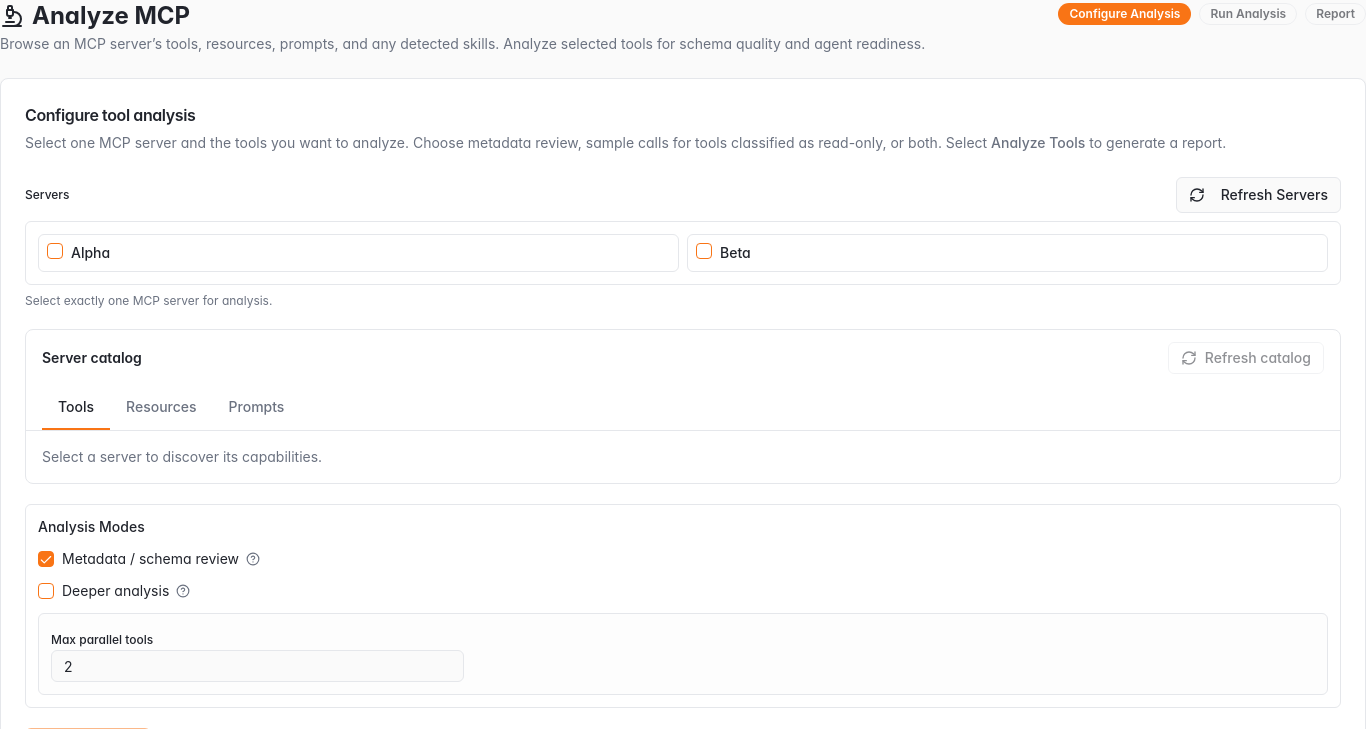
Test: Analyze MCP catalog › sends prompt arguments and shows the rendered roles and messages
Click the checkbox named "Alpha" next to "Alpha" at [55, 251], box [47, 243, 63, 259]
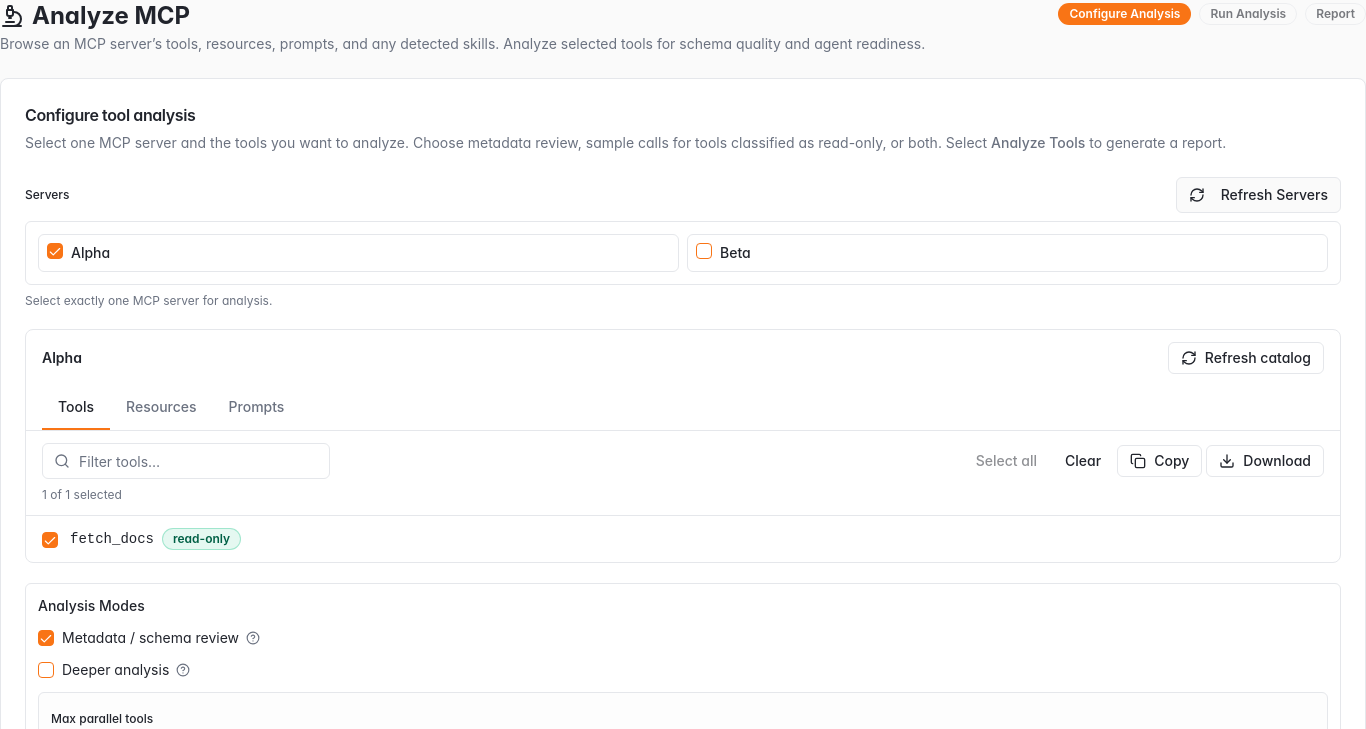
expect the text "fetch_docs" is shown: met, box [70, 529, 154, 549]
Press Enter in the tab "Prompts", box [212, 386, 300, 430]
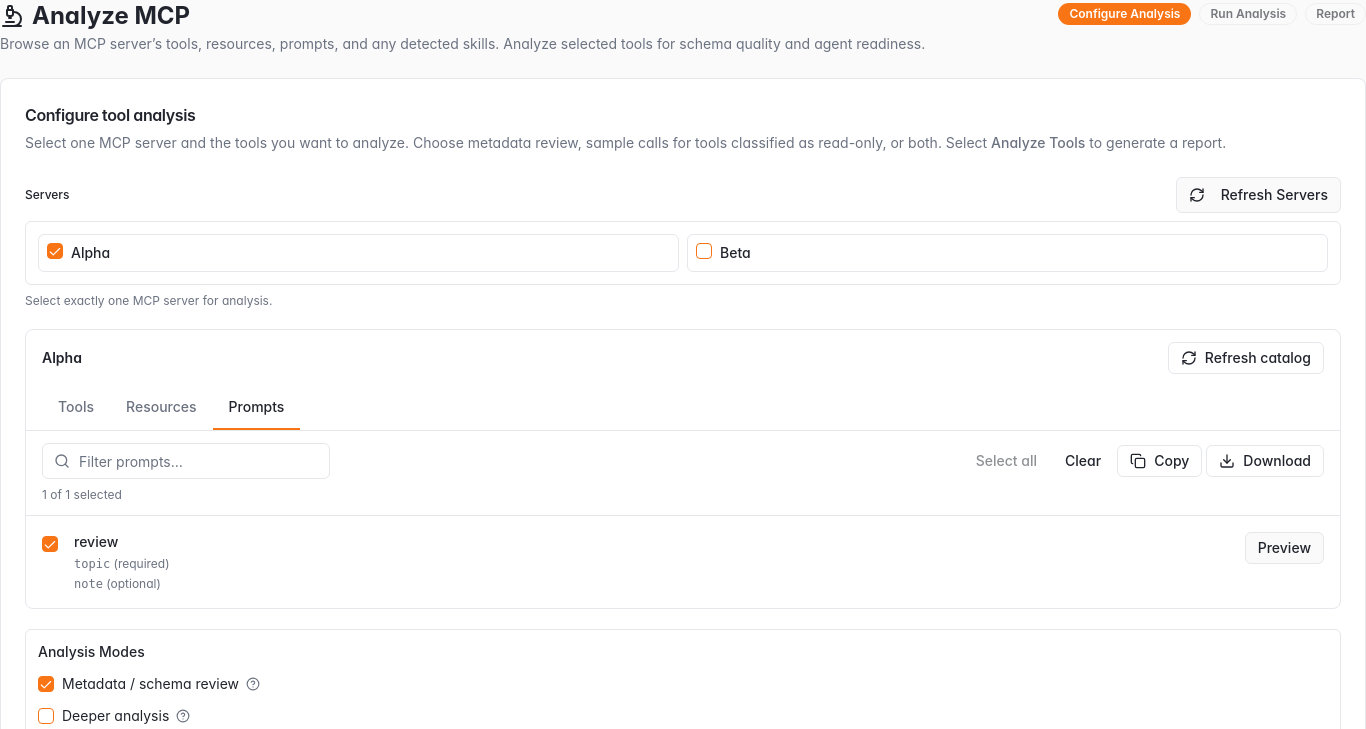
Click the button with aria-label "Preview review" at [1284, 548], box [1245, 532, 1324, 564]
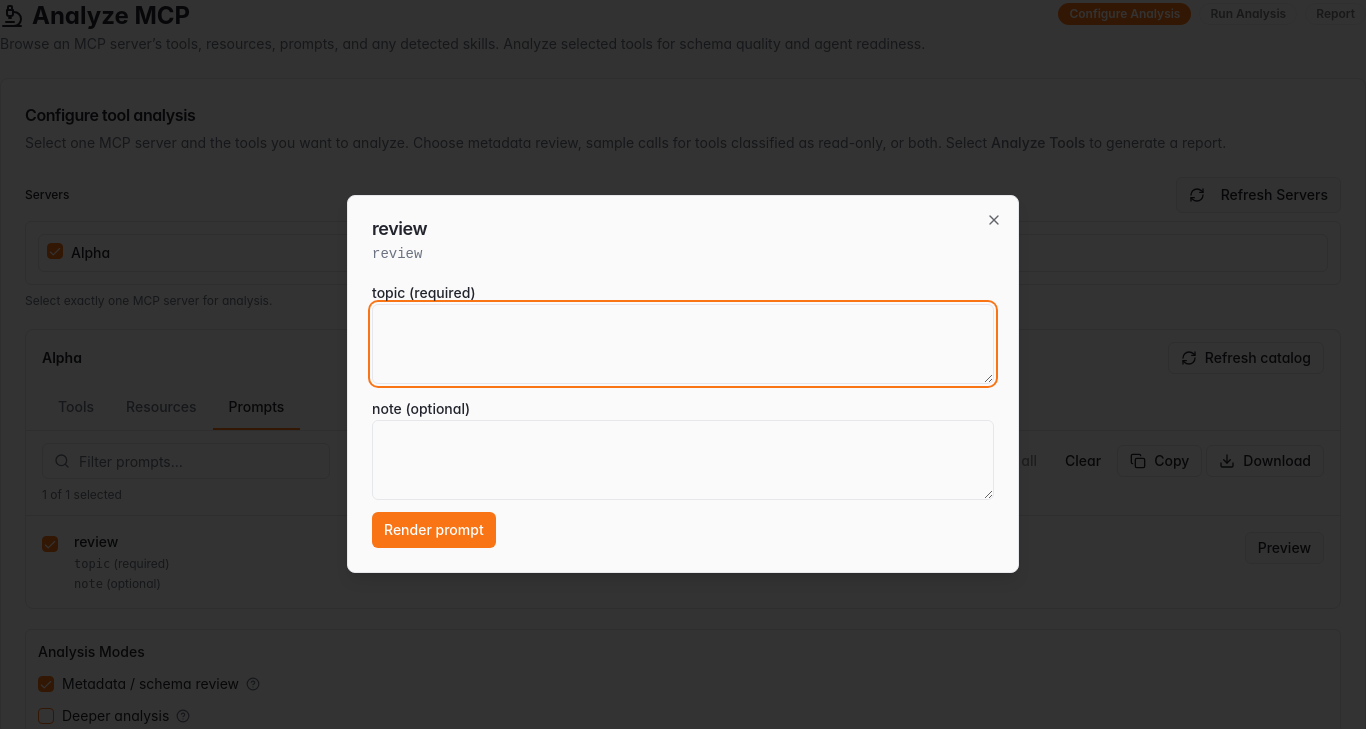
Type "docs" into the text box labelled "topic (required)" at [683, 344], box [372, 304, 994, 384]
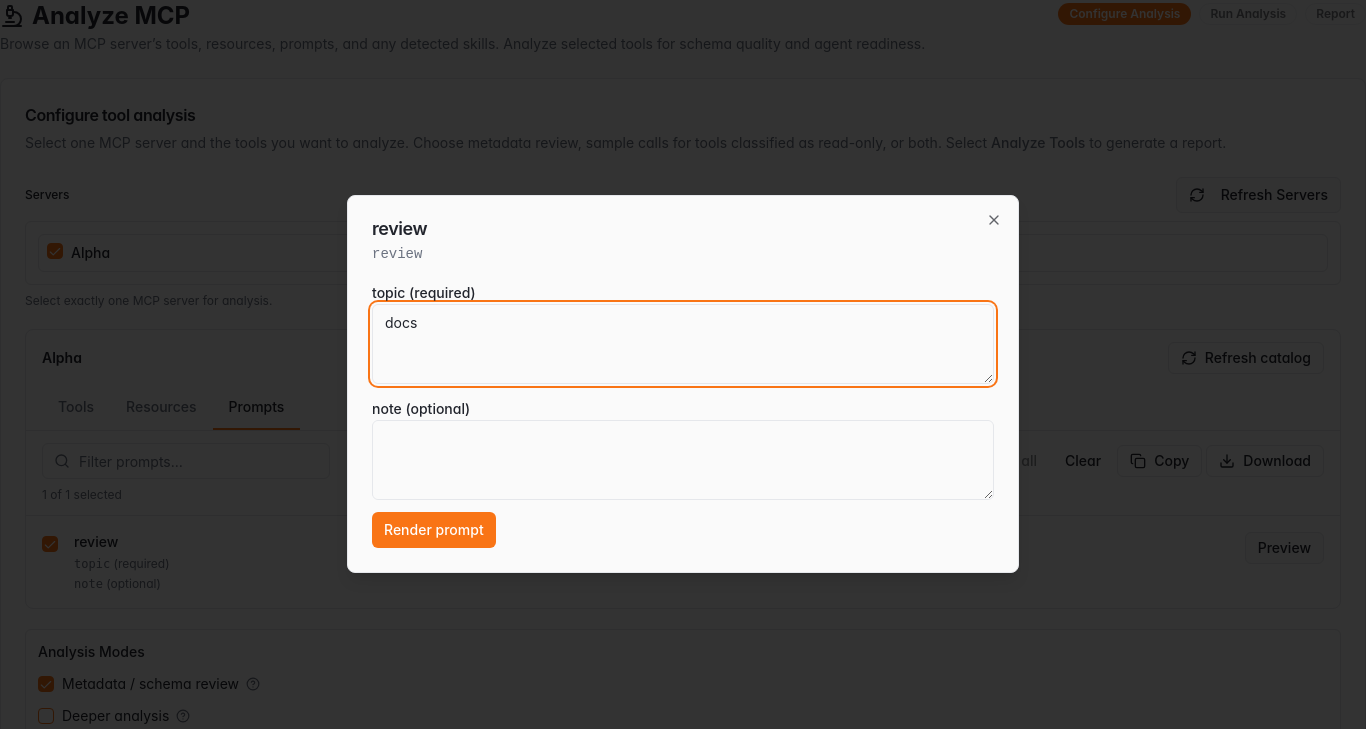
Click the button "Render prompt" at [434, 530], box [372, 512, 496, 548]
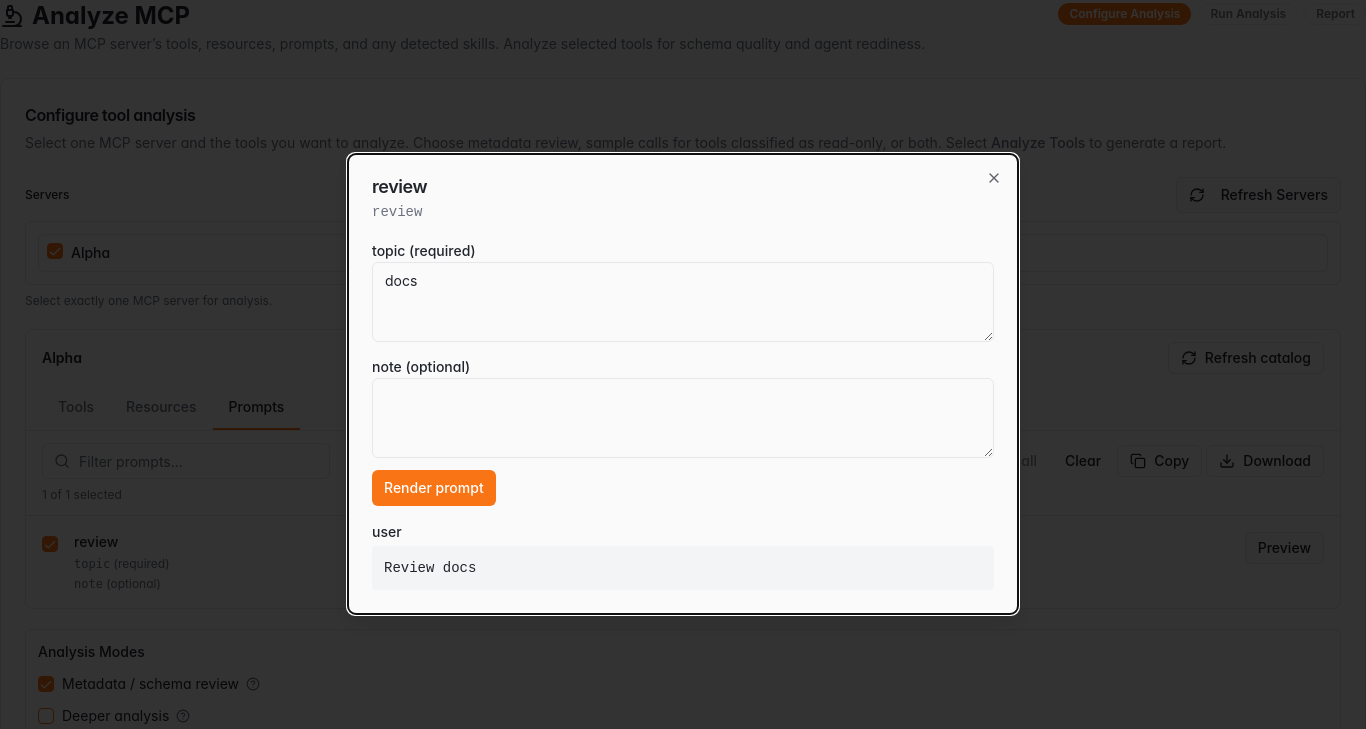
expect the text "Review docs" is shown: met, box [372, 546, 994, 590]
expect the text "user" is shown: met, box [372, 523, 402, 540]
